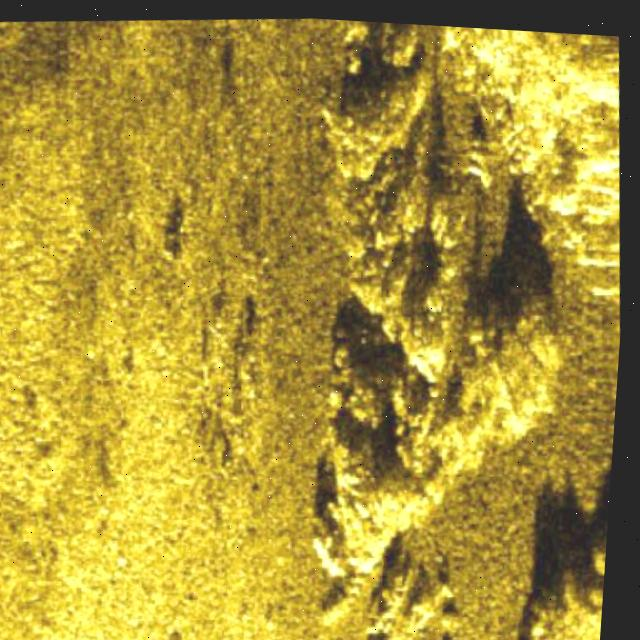bedrock group: (267, 14, 640, 640)
